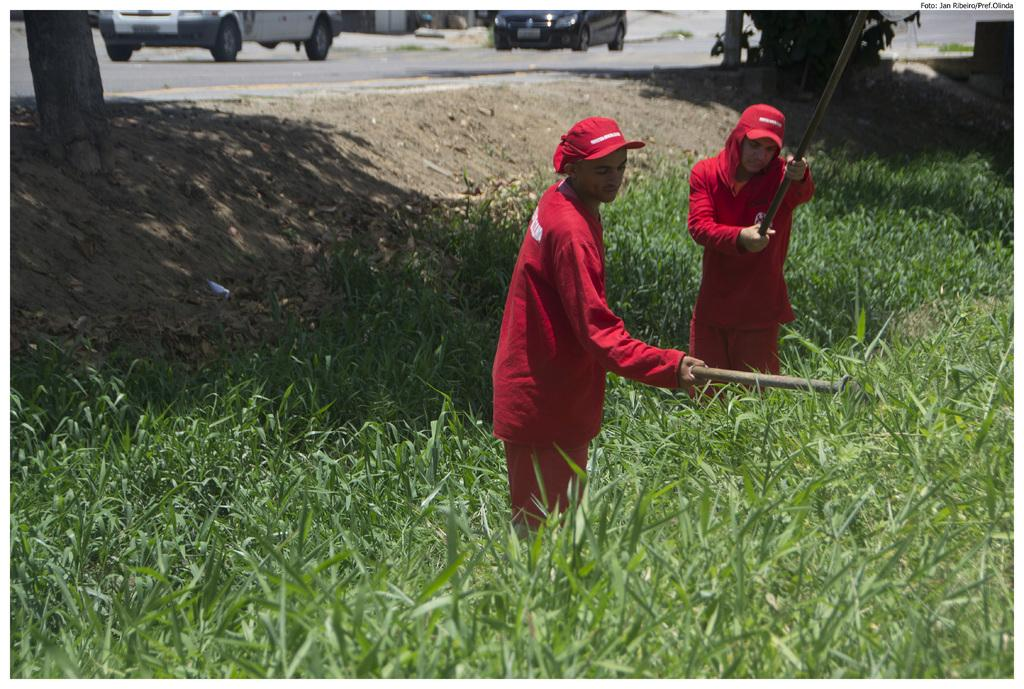Hat: (555, 112, 644, 173), (738, 105, 780, 152)
